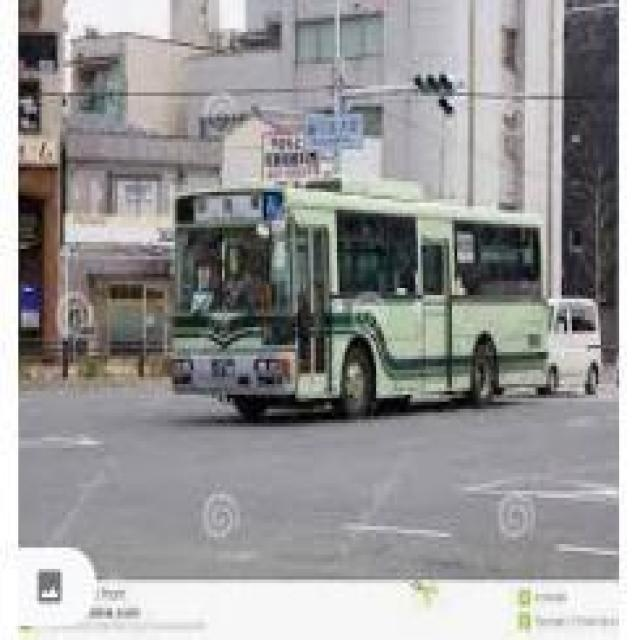Bus: (175, 181, 546, 423)
